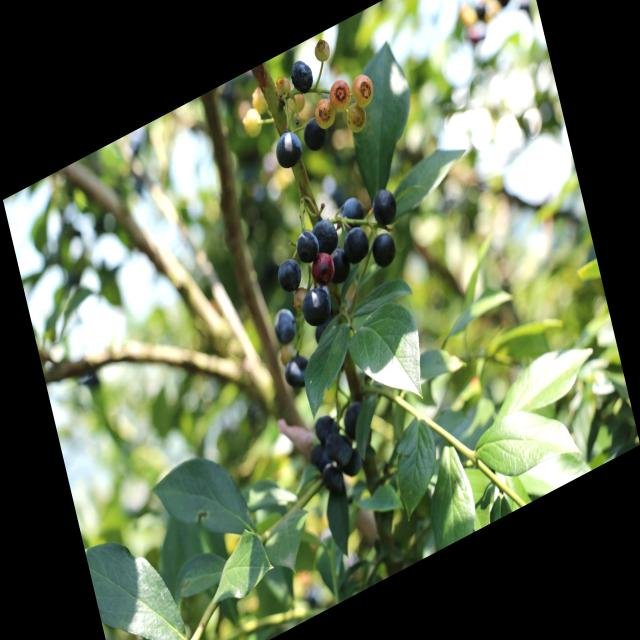blueberry: (298, 280, 335, 332), (271, 124, 306, 173), (368, 225, 401, 274), (368, 182, 400, 232), (308, 212, 341, 260), (281, 348, 314, 396), (340, 221, 372, 268), (340, 396, 371, 444), (274, 252, 306, 298), (324, 425, 354, 474), (293, 223, 323, 269), (324, 243, 353, 289), (338, 191, 368, 234), (300, 112, 328, 156), (271, 303, 299, 347), (288, 55, 315, 98), (307, 440, 332, 478), (314, 409, 338, 445), (339, 446, 364, 480), (322, 463, 344, 497)
blueberry-halfripe: (349, 68, 376, 110), (326, 75, 354, 115), (312, 93, 338, 132)
blueberry-unripe: (342, 100, 368, 138), (241, 102, 265, 142), (247, 84, 269, 121), (312, 35, 332, 65), (273, 73, 291, 100)
